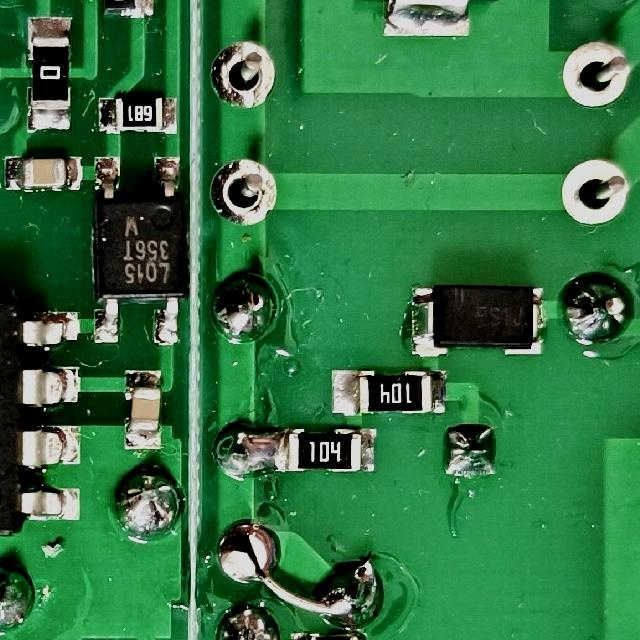chip-capacitor: (122, 367, 166, 453), (1, 153, 86, 195)
chip-resistor: (327, 366, 450, 418), (24, 14, 76, 134), (273, 425, 379, 475), (93, 94, 180, 137)
diode: (401, 280, 547, 360)
ic: (89, 151, 187, 349)
